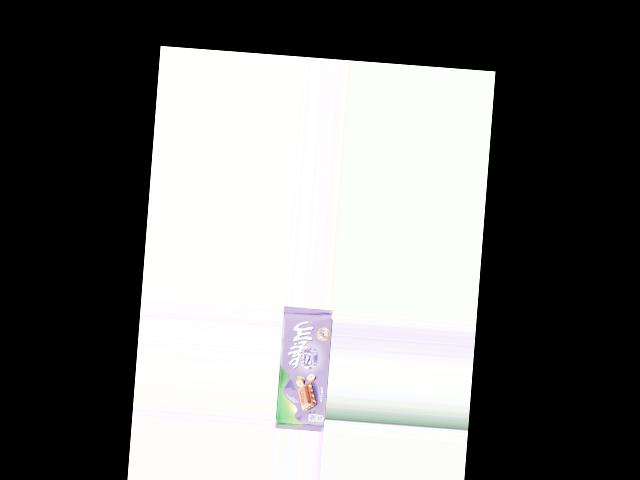chocolate: (275, 306, 333, 432)
